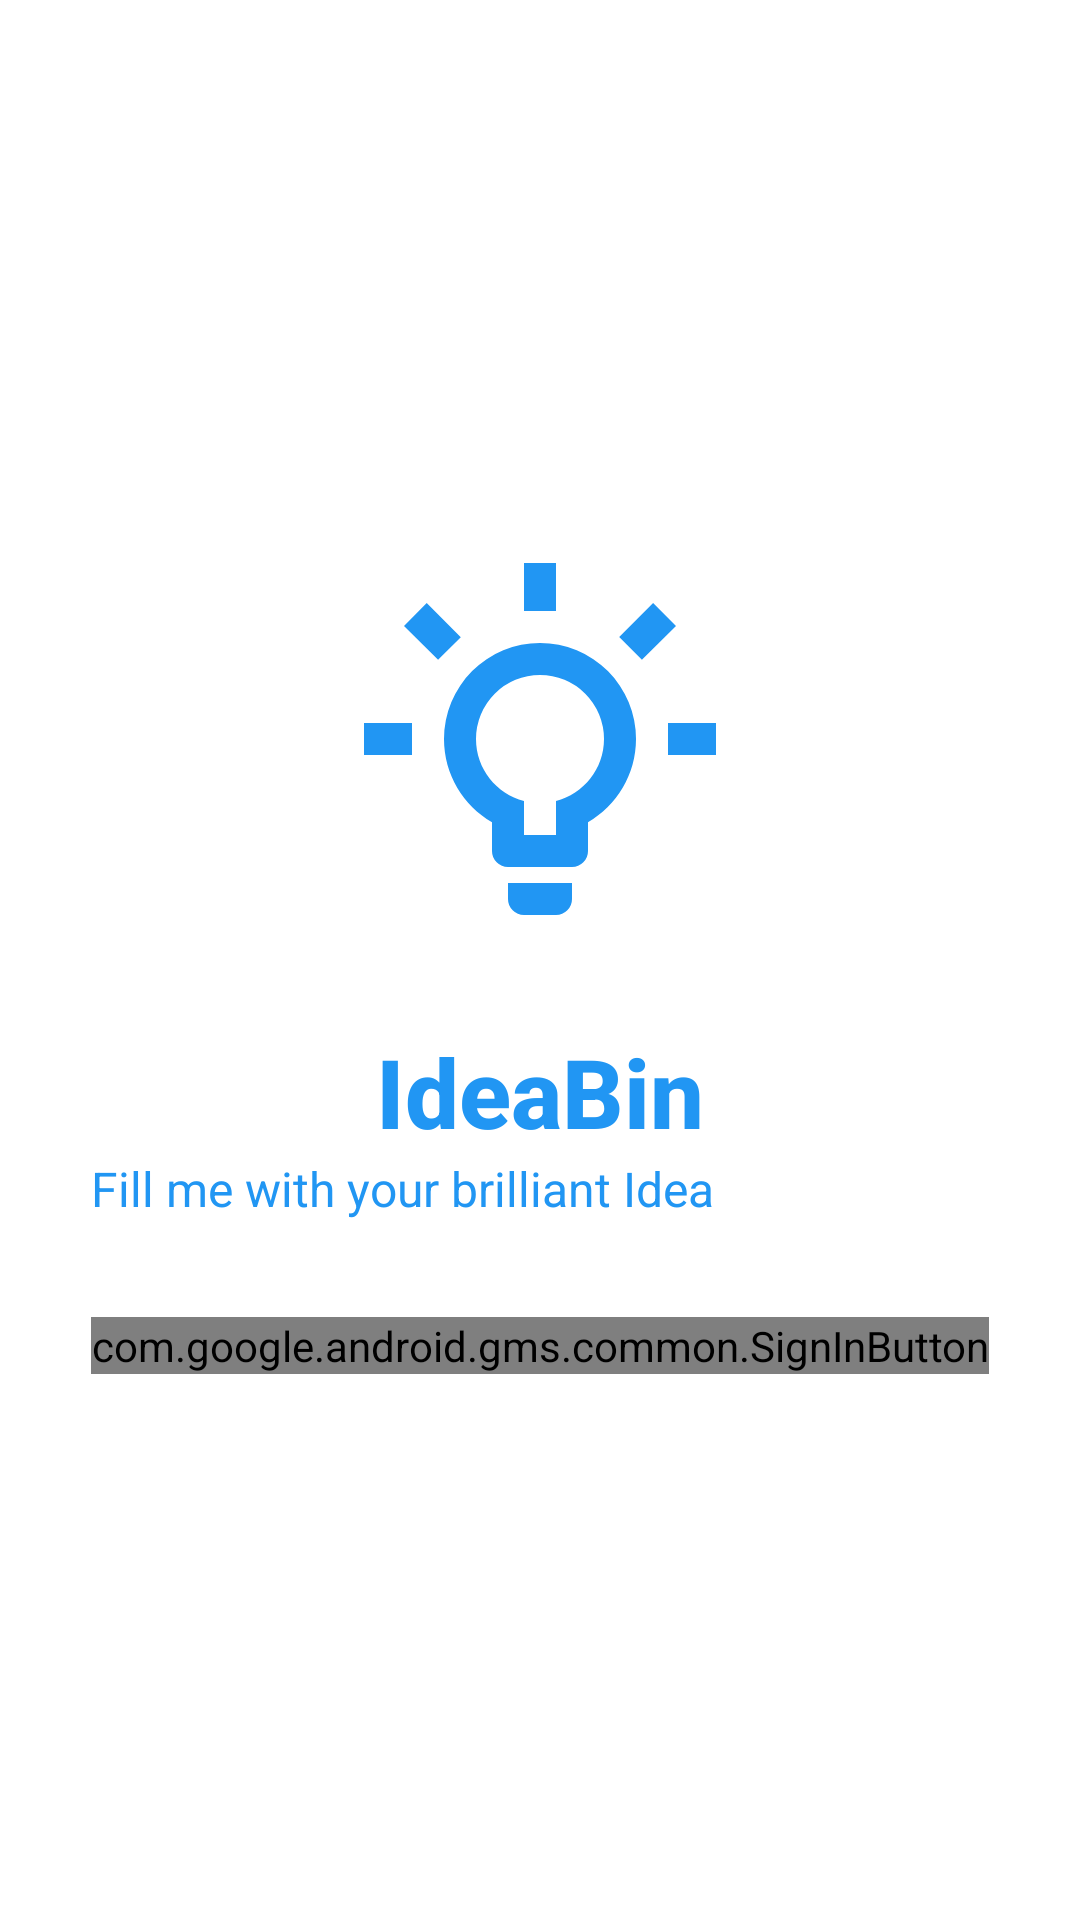

Point at icon controls on the screen. Image size 1080px x 1920px, points as [x,y].
lamp: [540,739]
